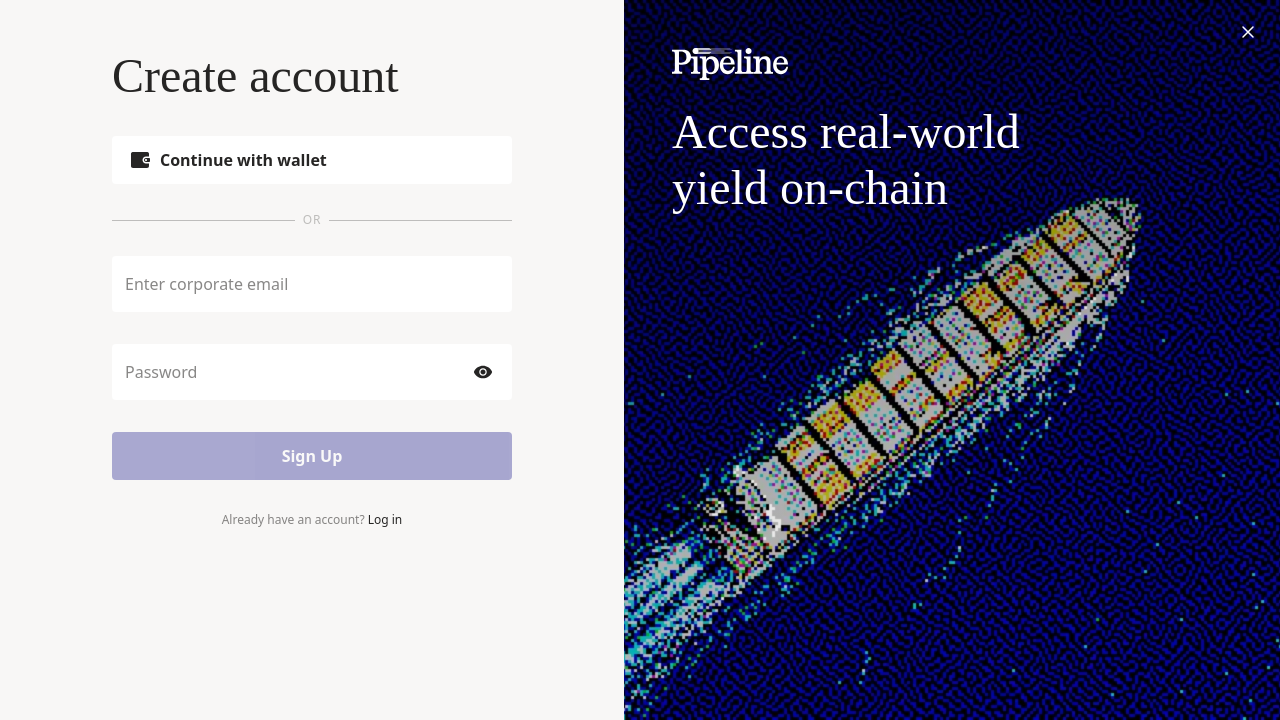
Test: CreateAccountModal (#1249) › both error messages render with the exact Figma copy on blur, and submit stays disabled
Step 1. Type "dsfdffs" into the field with placeholder "Enter corporate email" → x=312, y=284, box [125,273,499,295]
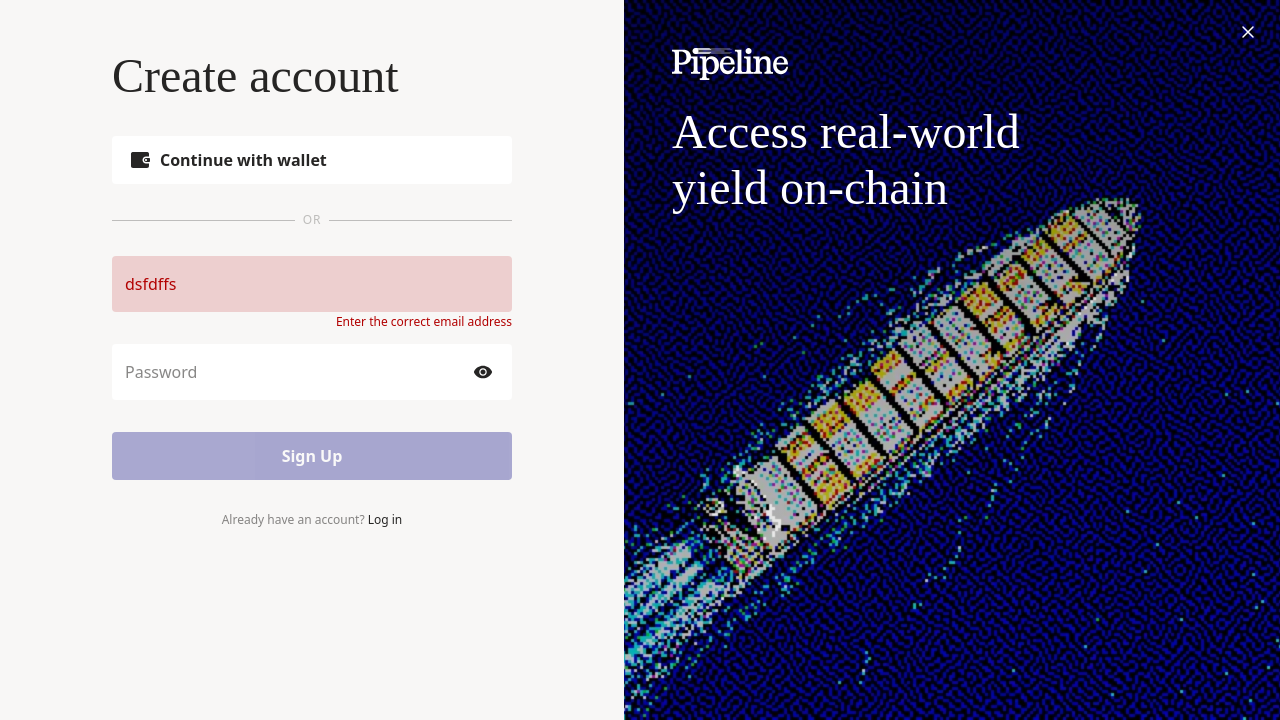
Step 2. Type "short" into the password field with placeholder "Password" → x=294, y=372, box [125,361,463,383]
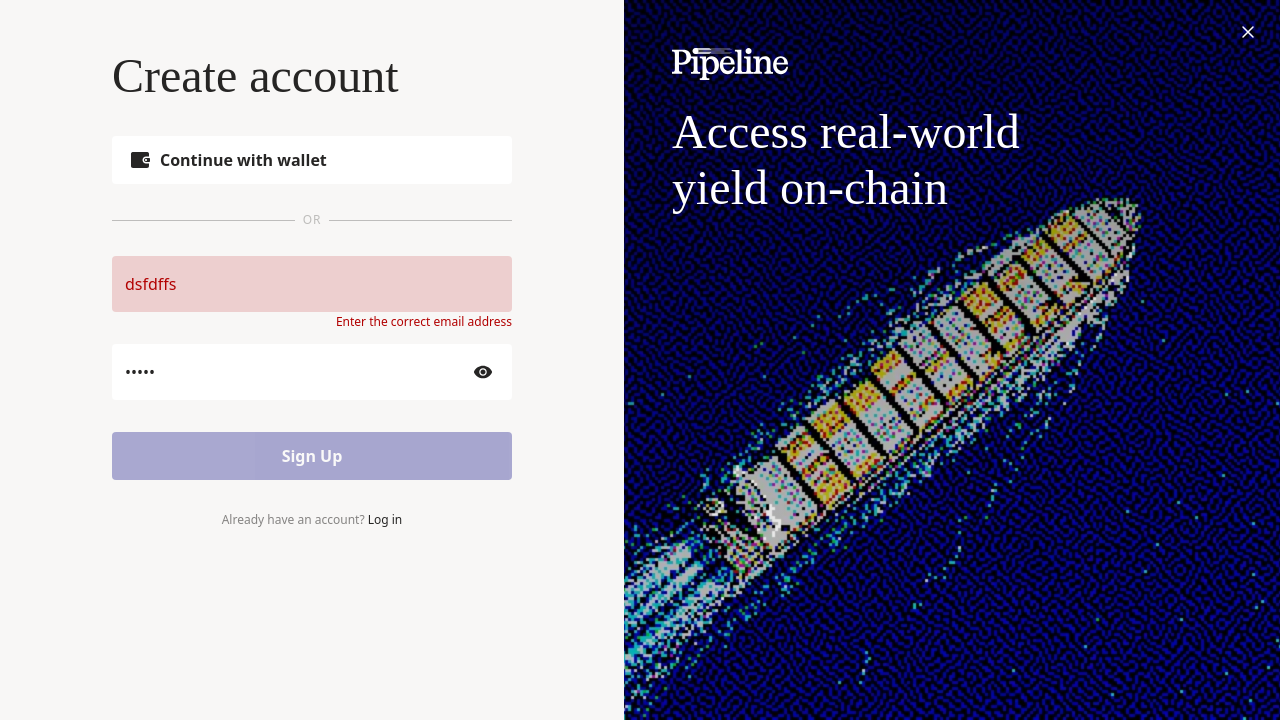
Step 3. Leave the password field with placeholder "Password", box [125,361,463,383]
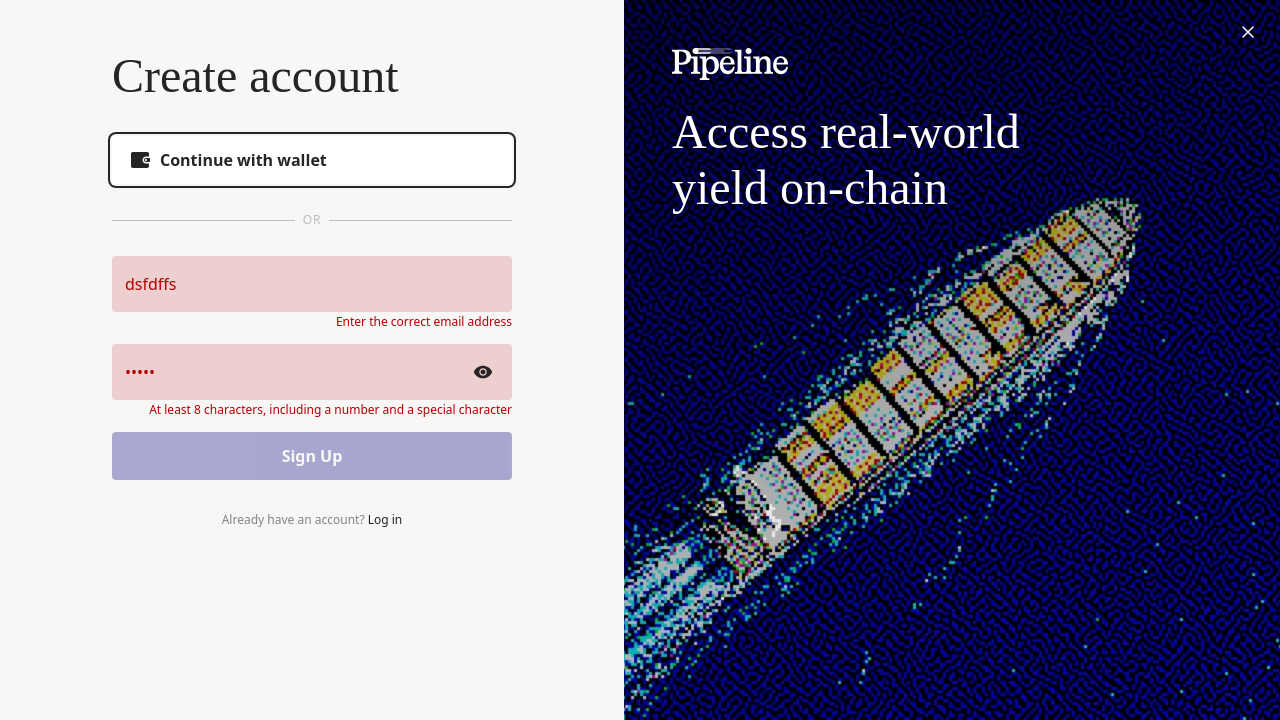
Expected: the button "Sign Up" is disabled, [112,432,512,480]
Now the text "Enter the correct email address" is shown, box [336,314,512,330]
Now the text "At least 8 characters, including a number and a special character" is shown, box [149,402,512,418]
